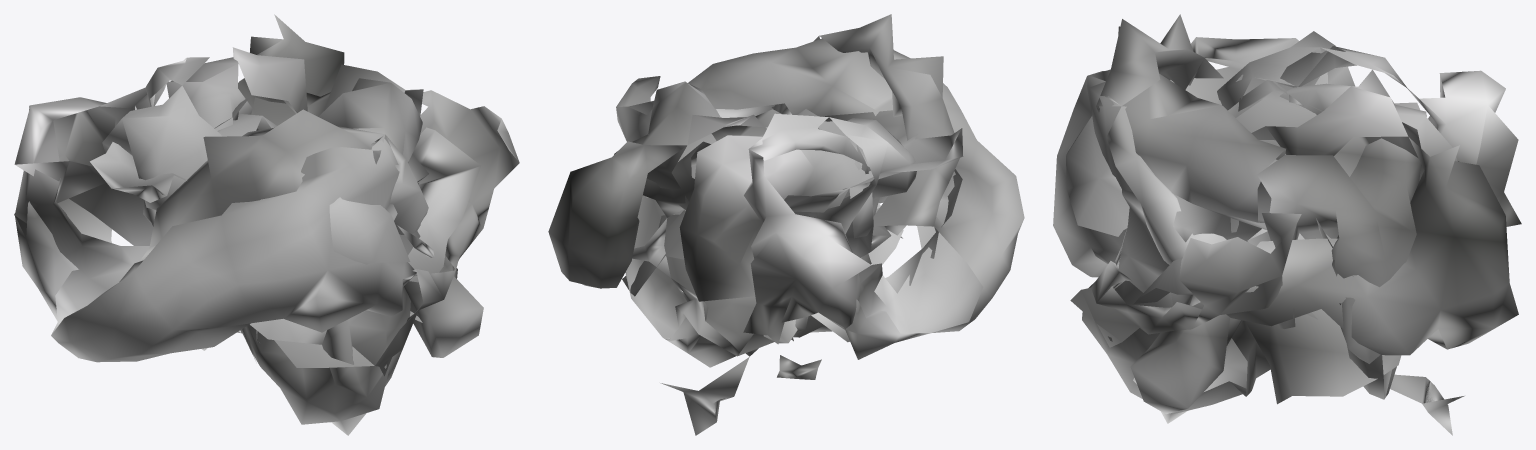
The model's file is Bolita de papel.fbx.
3 views of the same model, side by side, from view 1: azimuth 30°, elevation 25°; view 2: azimuth 150°, elevation 25°; view 3: azimuth 270°, elevation 25° (orthographic). The views are drawn at different scales.
Visible parts, largest first — view 1: Papel.005; view 2: Papel.005; view 3: Papel.005.
Part boxes in pixels (x1=…): Papel.005: x1=14, y1=14, x2=519, y2=435; Papel.005: x1=548, y1=14, x2=1024, y2=435; Papel.005: x1=1053, y1=14, x2=1521, y2=435.
Size of the model in its own units: 12.52 by 10.39 by 11.42.
